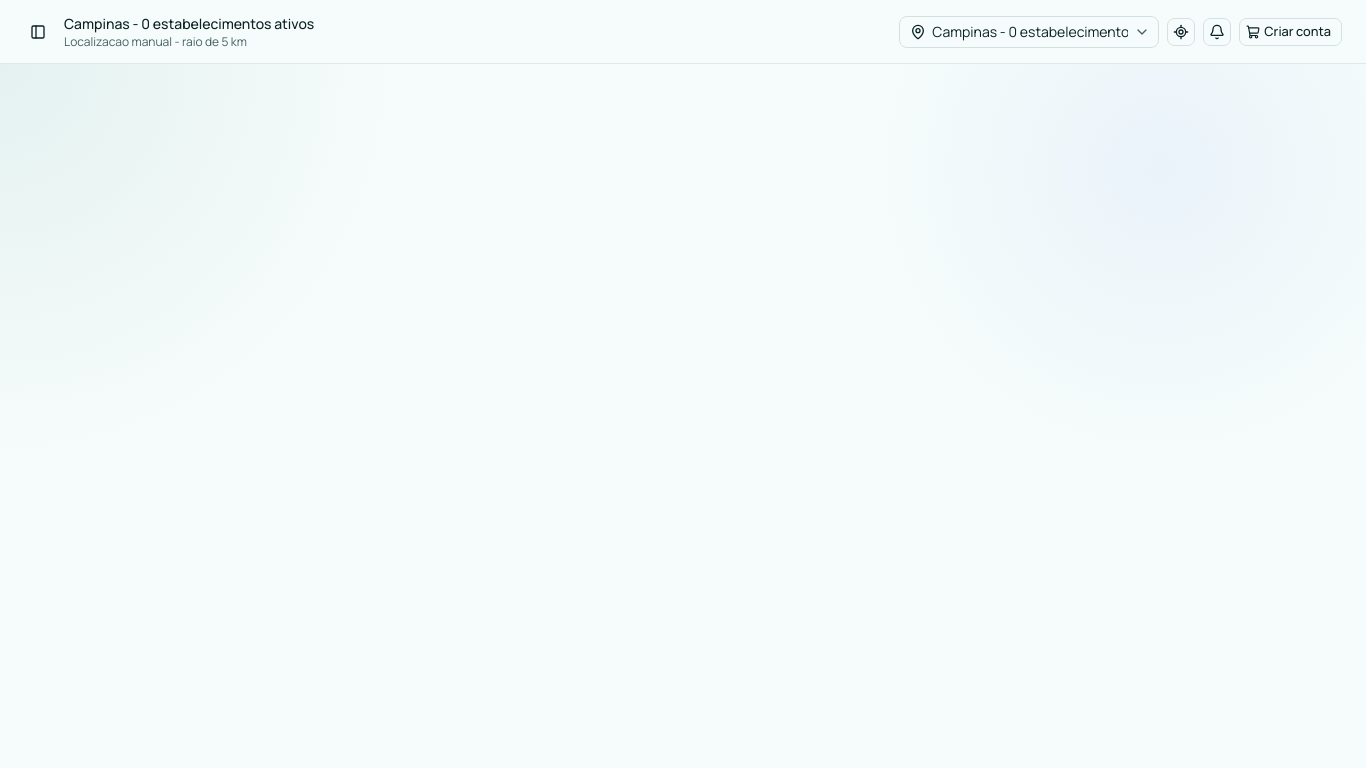
PublicLayout › saves a postal code fallback without claiming distance
Step 1. Click the button named "configurar localiza" → (1181,32), box [1167,18,1195,46]
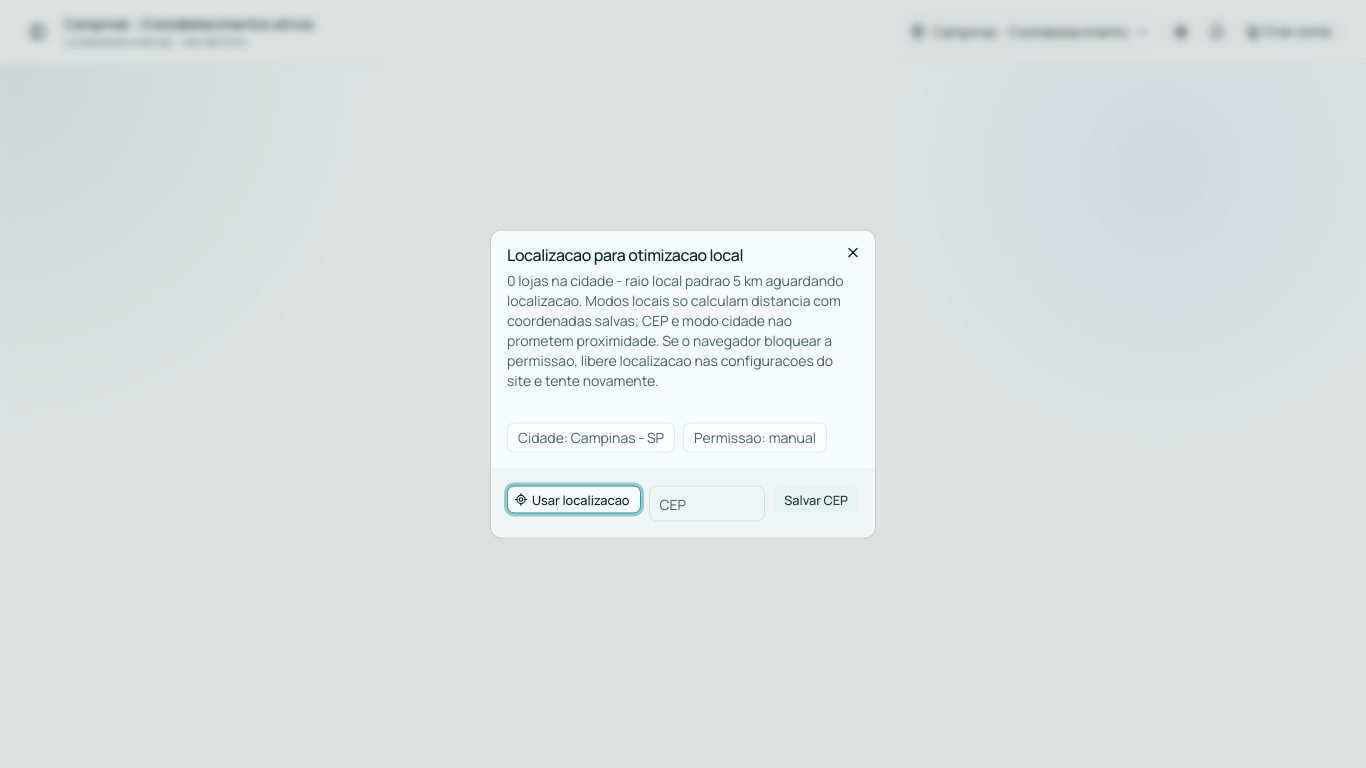
Step 2. Type "13010-000" into the field named "CEP para fallback manual" → (707,504), box [649,486,765,522]
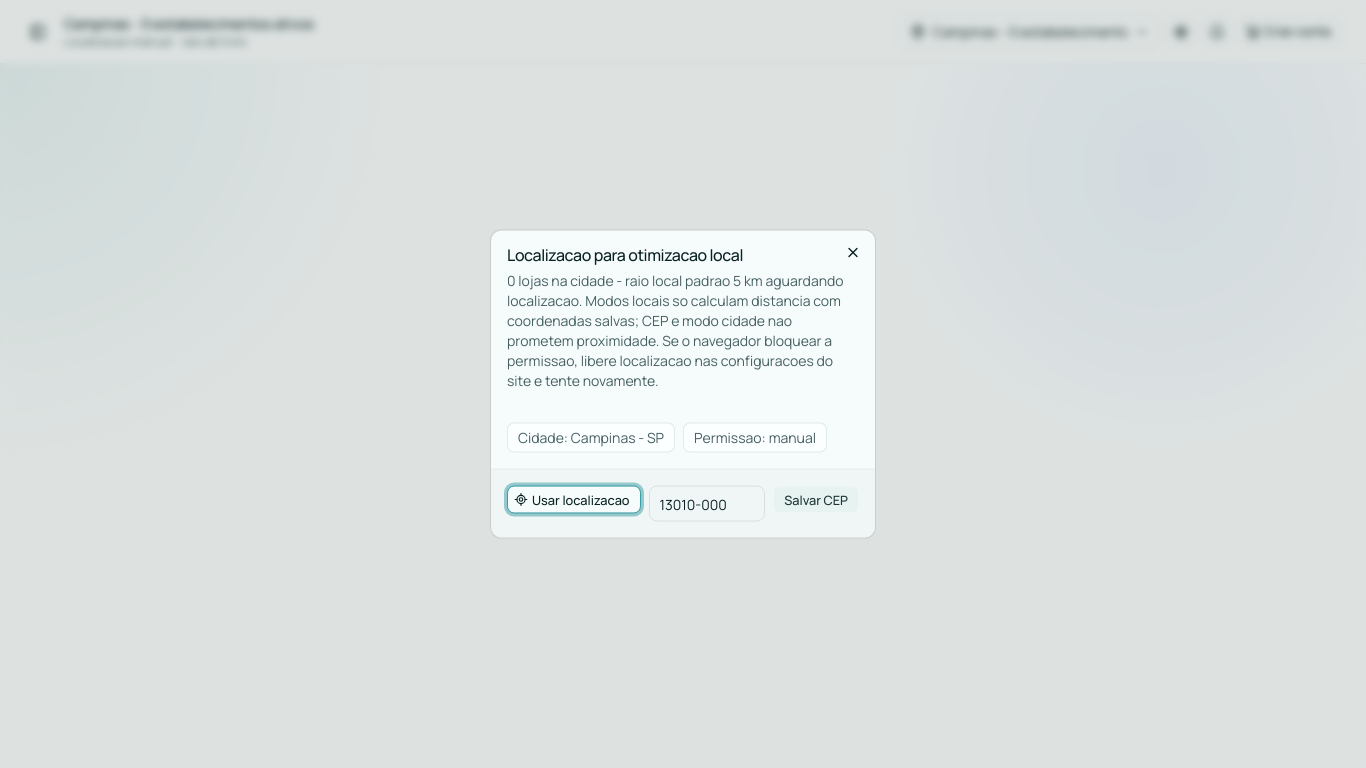
Step 3. Click the button "Salvar CEP" → (816,500), box [773,486,859,514]
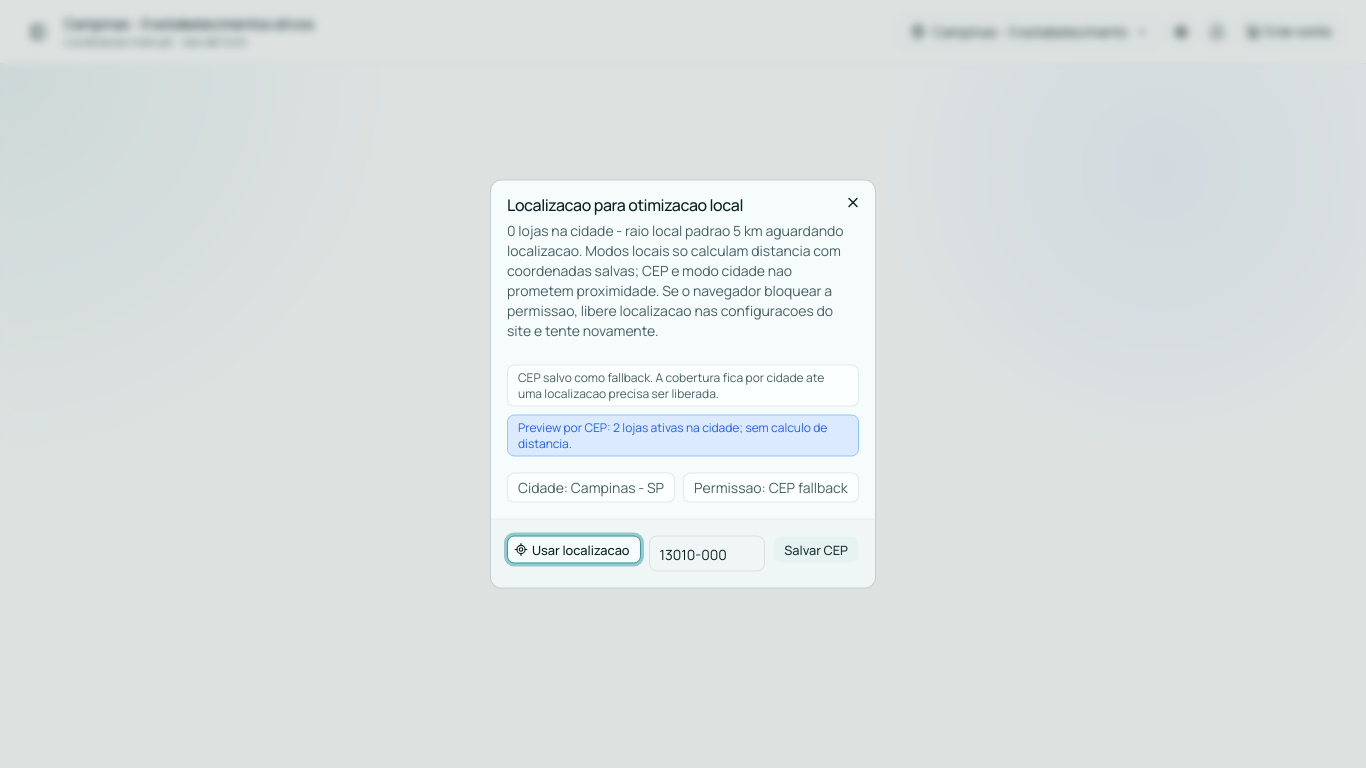
Result: the text "nao prometem proximidade" is shown at [507,240,841,340]
Result: the text "Preview por CEP: 2 lojas" is shown at [518,418,827,452]
Result: the text "CEP salvo como fallback" is shown at [518,368,824,402]
